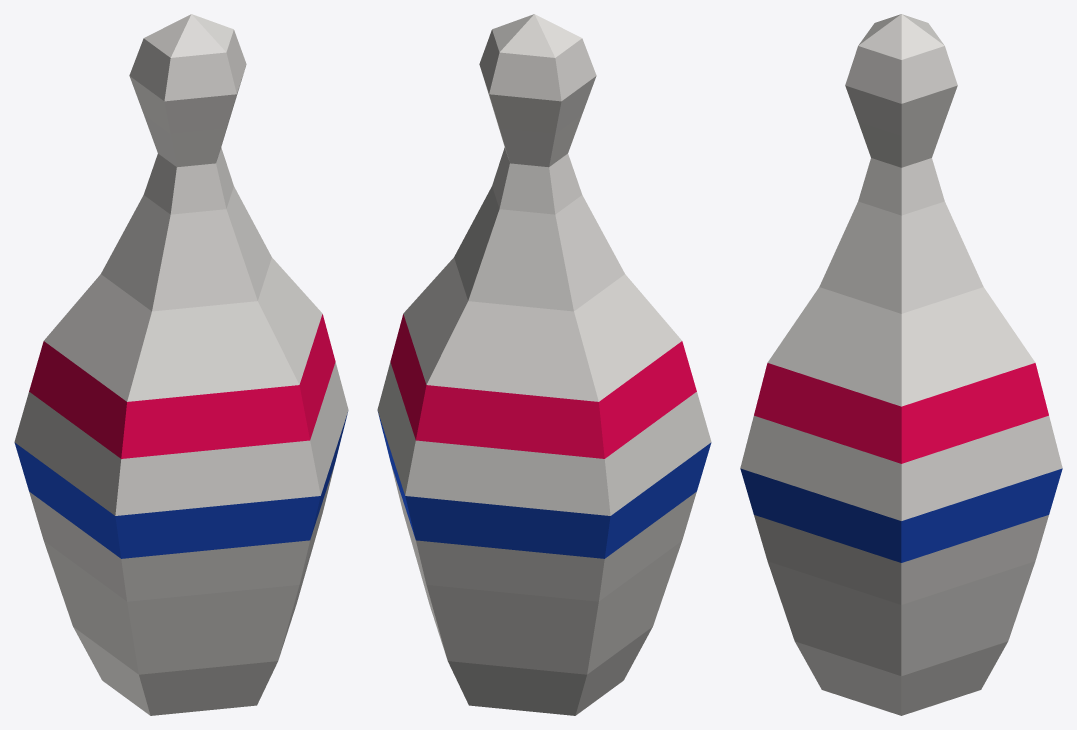
The model's file is pin.fbx.
The picture shows the model from 3 angles, left to right: view 1: azimuth 30°, elevation 25°; view 2: azimuth 150°, elevation 25°; view 3: azimuth 270°, elevation 25°; orthographic projection.
Parts seen in each view (by area): view 1: Object_3; view 2: Object_3; view 3: Object_3.
Part boxes in pixels (x1=…): Object_3: x1=14, y1=14, x2=348, y2=715; Object_3: x1=377, y1=14, x2=711, y2=715; Object_3: x1=740, y1=14, x2=1062, y2=715.
Size of the model in its own units: 66.81 by 150 by 66.25.
